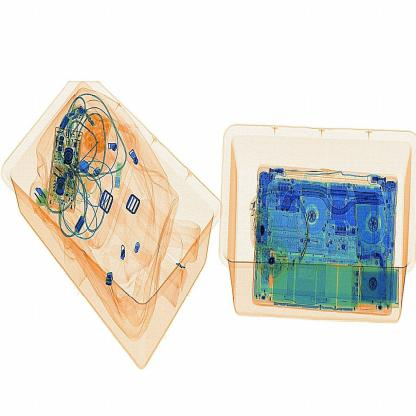pliers: (277, 161, 337, 180)
